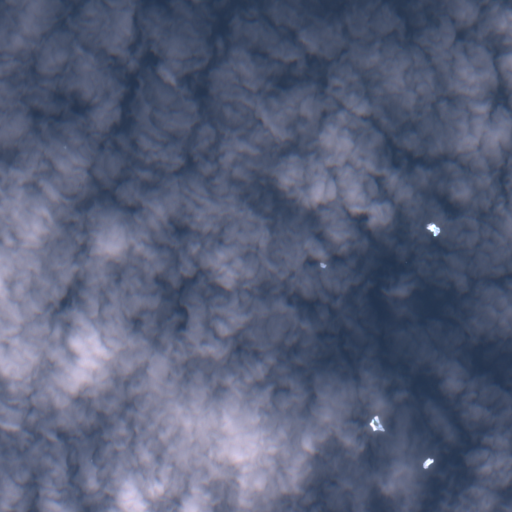Iceberg: (369, 416, 384, 430), (427, 222, 439, 236), (423, 458, 433, 468), (320, 263, 326, 267)
